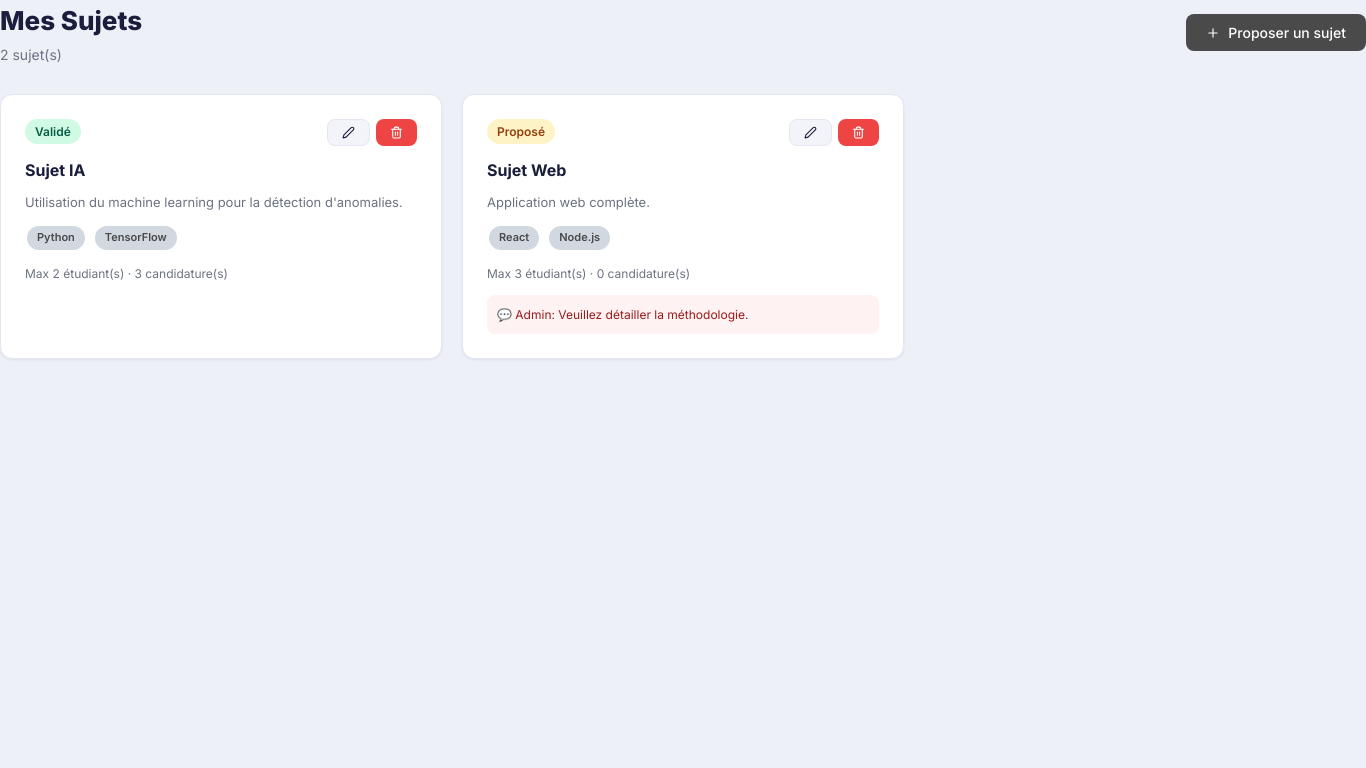
it: MySupervisorSubjectsPage › opens edit modal with pre-filled data
Expected: the heading "Sujet IA" is shown, [25,160,85,180]
Click first edit icon button
Click the 2nd button. click: x=348, y=132
box: [327,119,370,146]
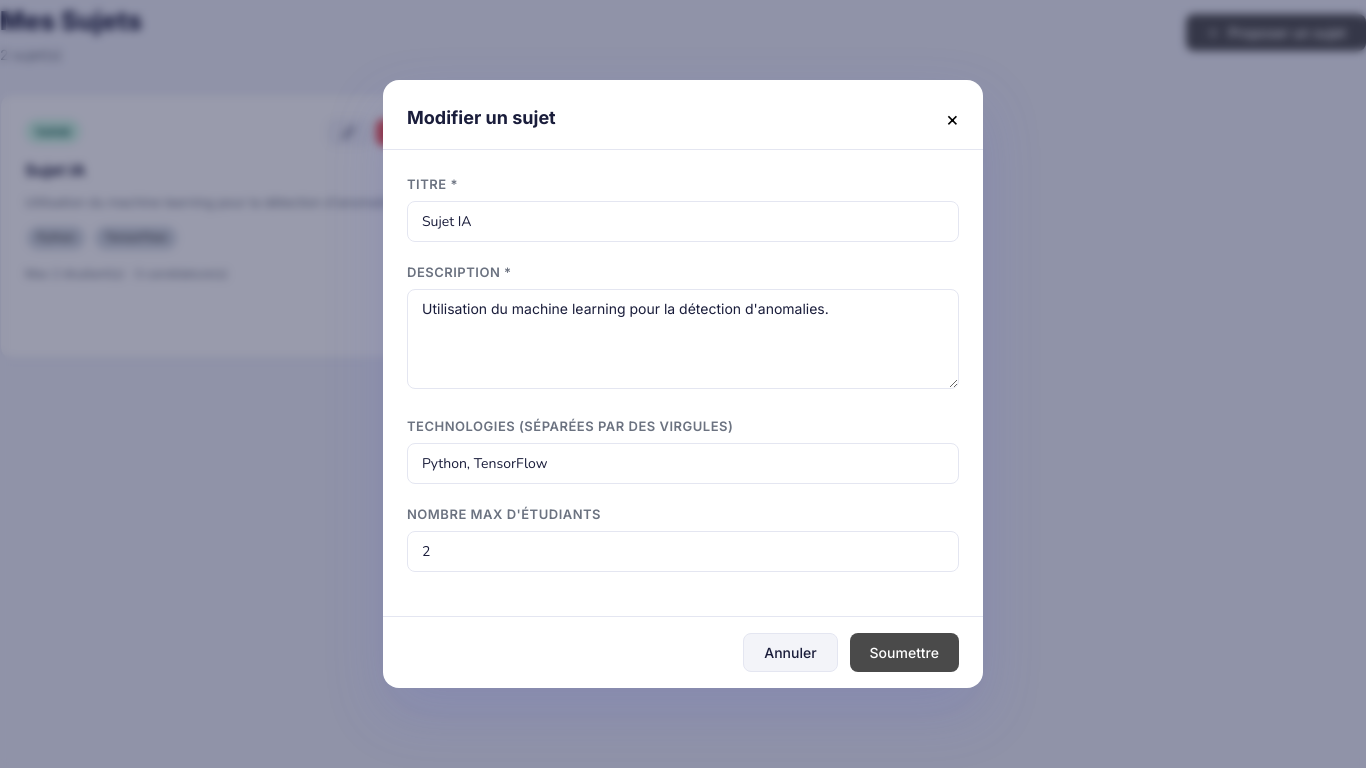
Expected: the field showing "Sujet IA" below "Titre *" is shown, [407,201,959,242]
